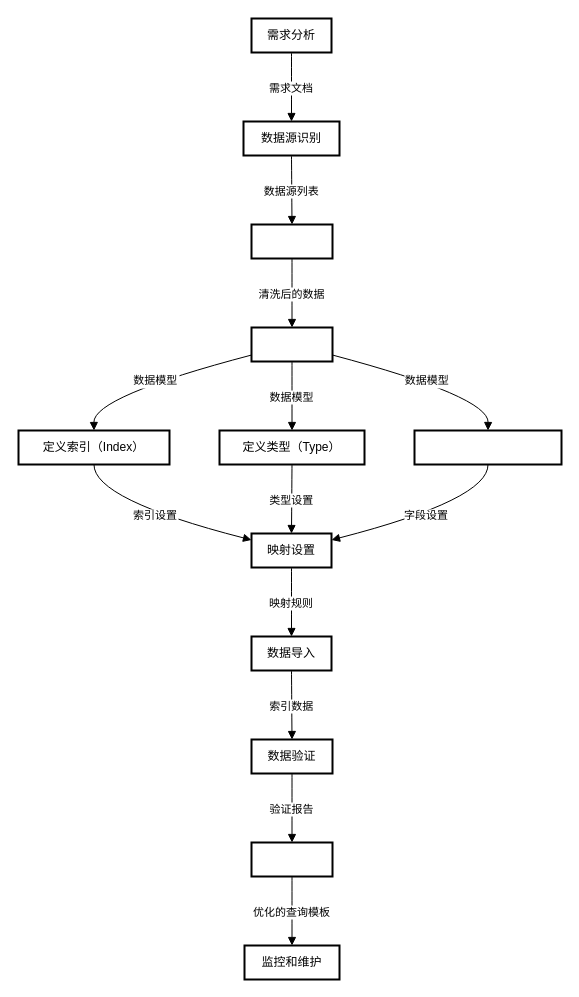
The diagram is 579 pixels wide and 997 high, and some of its shapes have lost their labels. Here are the shapes that lost their labels. From the top down, the centre of each, then its label:
the point at 291,241: 数据清洗
the point at 291,344: 数据建模
the point at 487,447: 定义字段（Field）
the point at 291,859: 查询优化
